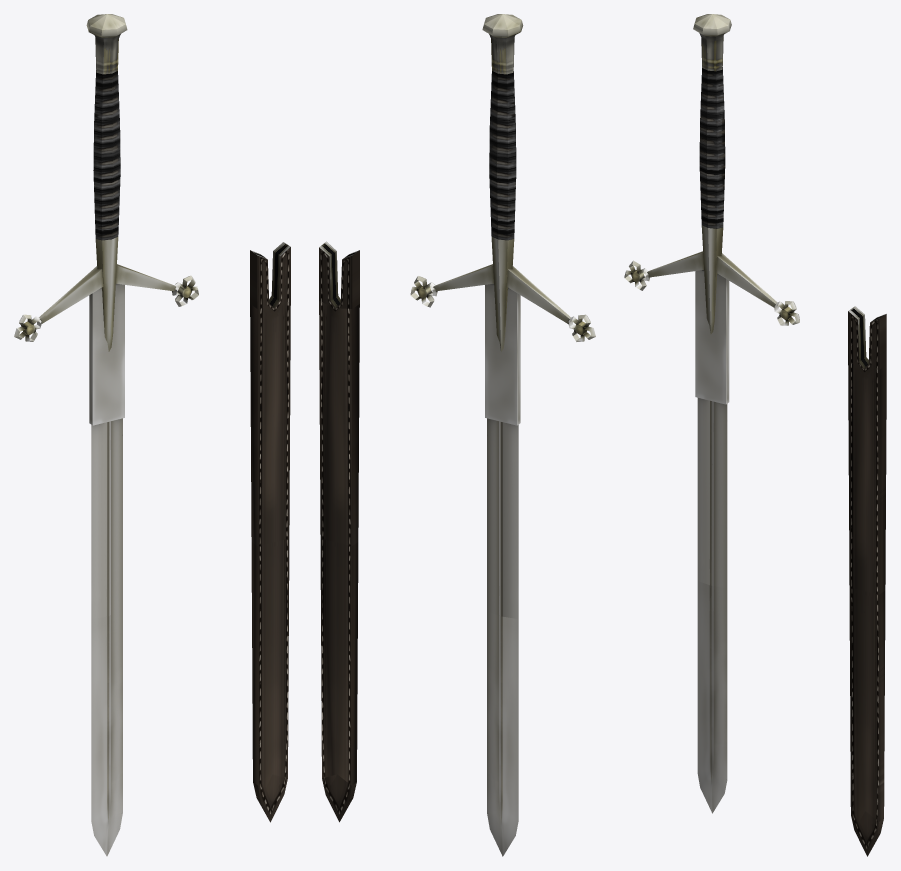
Rendered from claymore.FBX.
The picture shows the model from 3 angles, left to right: view 1: azimuth 30°, elevation 25°; view 2: azimuth 150°, elevation 25°; view 3: azimuth 330°, elevation 25°; orthographic projection. The views are drawn at different scales.
Parts seen in each view (by area): view 1: claymore, claymore_sheath; view 2: claymore, claymore_sheath; view 3: claymore, claymore_sheath.
Boxes of the visible parts, <box> form: claymore: <box>14,14,198,856</box>; claymore_sheath: <box>250,242,290,822</box>; claymore: <box>410,14,595,856</box>; claymore_sheath: <box>319,241,359,822</box>; claymore: <box>624,14,799,813</box>; claymore_sheath: <box>848,306,886,856</box>.
Size of the model in its own units: 28.7 by 85.22 by 3.85.
